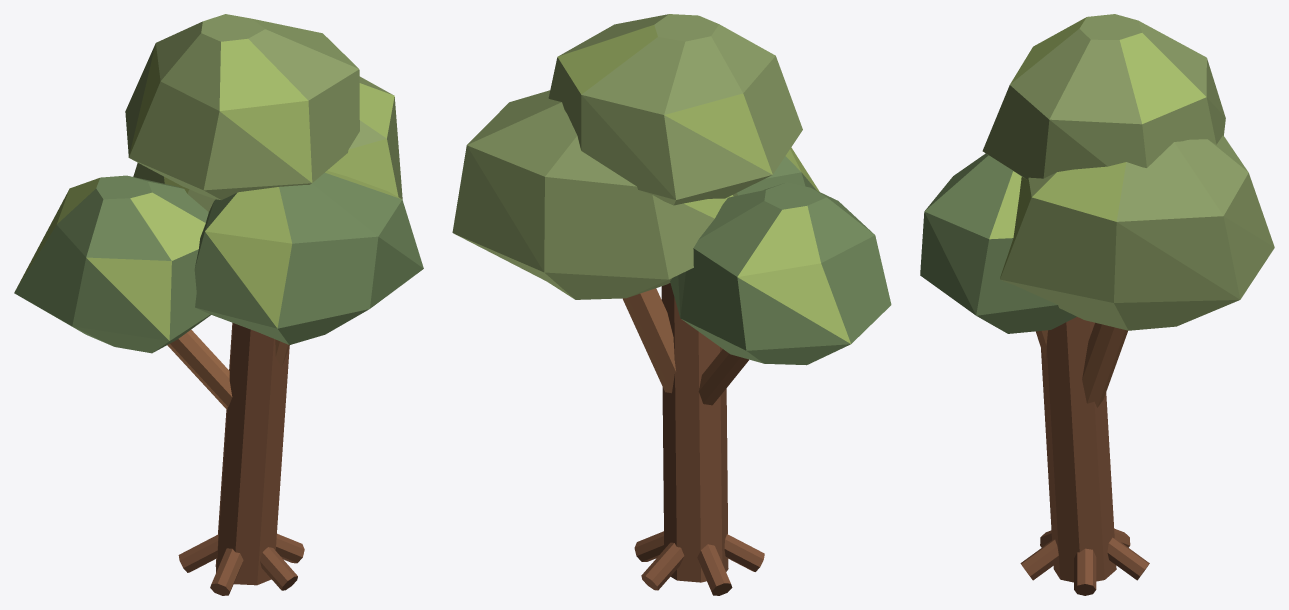
The model's file is tree_oak_v1530_01.glb.
The picture shows the model from 3 angles, left to right: view 1: azimuth 30°, elevation 25°; view 2: azimuth 150°, elevation 25°; view 3: azimuth 270°, elevation 25°; orthographic projection. The views are drawn at different scales.
Visible parts, largest first — view 1: tree_oak_v1530_01; view 2: tree_oak_v1530_01; view 3: tree_oak_v1530_01.
Part boxes in pixels (x1,y1,x2,y2): tree_oak_v1530_01: [14, 14, 423, 595]; tree_oak_v1530_01: [452, 14, 891, 595]; tree_oak_v1530_01: [920, 14, 1274, 595].
Bounding box in the file's own units: 1.69 × 2.44 × 1.44.
